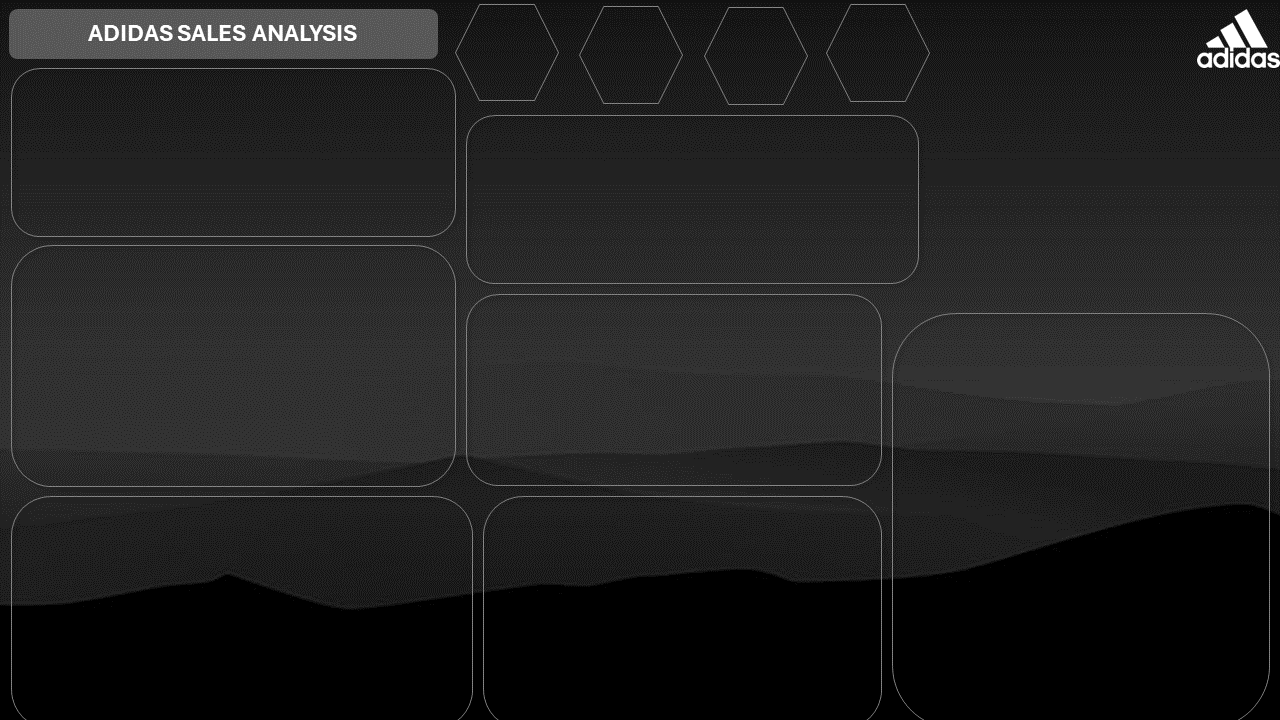

Layout of this report page (visuals, bound fields, positions):
{"tool":"powerbi","page":{"name":"Page 1","canvas":[1280,720],"ordinal":0},"visuals":[{"type":"funnel","title":"Sales by Year","fields":{"Y":["Sum(Adidas US Sales Datasets_1.Total Sales)"],"Category":["Date.Year"]},"box":[36.3,77.2,384.6,137.8],"z":0},{"type":"treemap","title":"Sales by Retailer and Year","fields":{"Group":["Adidas US Sales Datasets_1.Retailer"],"Values":["Sum(Adidas US Sales Datasets_1.Total Sales)"],"Details":["Date.Year"]},"box":[894.9,99.9,354.3,271],"z":1000},{"type":"waterfallChart","title":"Avg Operating Margin by Quater and Year","fields":{"Category":["Date.Quater"],"Breakdown":["Date.Year"],"Y":["Avg(Adidas US Sales Datasets_1.Operating Margin)"]},"box":[27.3,507.3,427,196.8],"z":2000},{"type":"hundredPercentStackedColumnChart","title":"Units Sold by Retailer and Sales Method","fields":{"Y":["Sum(Adidas US Sales Datasets_1.Units Sold)"],"Category":["Adidas US Sales Datasets_1.Retailer"],"Series":["Adidas US Sales Datasets_1.Sales Method"]},"box":[16.7,258.9,427,222.6],"z":3000},{"type":"clusteredColumnChart","title":"Units Sold by Product Catergory","fields":{"Y":["Sum(Adidas US Sales Datasets_1.Units Sold)"],"Category":["Adidas US Sales Datasets_1.Product By Catergory","Date.Year"],"Series":["Adidas US Sales Datasets_1.Product By Gender"]},"box":[472.4,305.9,381.6,207.4],"z":4000},{"type":"lineChart","title":"Units Sold by Season and Sales Method","fields":{"Category":["Date.Season"],"Y":["Sum(Adidas US Sales Datasets_1.Units Sold)"],"Series":["Adidas US Sales Datasets_1.Sales Method"]},"box":[495.1,539.1,374,165],"z":5000},{"type":"slicer","fields":{"Values":["Date.Year"]},"box":[929.7,19.7,251.4,40.9],"z":6000},{"type":"clusteredBarChart","title":"Sales by Region","fields":{"Y":["Sum(Adidas US Sales Datasets_1.Total Sales)"],"Category":["Adidas US Sales Datasets_1.Region"]},"box":[480,119.6,363.4,157.5],"z":7000},{"type":"cardVisual","fields":{"Data":["Avg(Adidas US Sales Datasets_1.Operating Margin)"]},"box":[469.4,0,124.2,99.9],"z":8000},{"type":"cardVisual","fields":{"Data":["Sum(Adidas US Sales Datasets_1.Units Sold)"]},"box":[620.8,0,124.2,99.9],"z":9000},{"type":"map","title":"Sales by State","fields":{"Size":["Sum(Adidas US Sales Datasets_1.Total Sales)"],"Category":["Adidas US Sales Datasets_1.State"]},"box":[894.9,404.3,366.4,299.8],"z":10000},{"type":"cardVisual","fields":{"Data":["Count(Adidas US Sales Datasets_1.Retailer)"]},"box":[767.7,0,127.2,99.9],"z":11000}]}

Visuals, with their boxes in screenshot pixels (x1, y1, x2, y2), scaled from the page's 1280x720 canvas onto the 1280x720 screenshot:
"Sales by Year" funnel: {"left": 36, "top": 77, "right": 421, "bottom": 215}
"Sales by Retailer and Year" treemap: {"left": 895, "top": 100, "right": 1249, "bottom": 371}
"Avg Operating Margin by Quater and Year" waterfallChart: {"left": 27, "top": 507, "right": 454, "bottom": 704}
"Units Sold by Retailer and Sales Method" hundredPercentStackedColumnChart: {"left": 17, "top": 259, "right": 444, "bottom": 482}
"Units Sold by Product Catergory" clusteredColumnChart: {"left": 472, "top": 306, "right": 854, "bottom": 513}
"Units Sold by Season and Sales Method" lineChart: {"left": 495, "top": 539, "right": 869, "bottom": 704}
slicer - Date.Year: {"left": 930, "top": 20, "right": 1181, "bottom": 61}
"Sales by Region" clusteredBarChart: {"left": 480, "top": 120, "right": 843, "bottom": 277}
cardVisual - Avg(Adidas US Sales Datasets_1.Operating Margin): {"left": 469, "top": 0, "right": 594, "bottom": 100}
cardVisual - Sum(Adidas US Sales Datasets_1.Units Sold): {"left": 621, "top": 0, "right": 745, "bottom": 100}
"Sales by State" map: {"left": 895, "top": 404, "right": 1261, "bottom": 704}
cardVisual - Count(Adidas US Sales Datasets_1.Retailer): {"left": 768, "top": 0, "right": 895, "bottom": 100}
